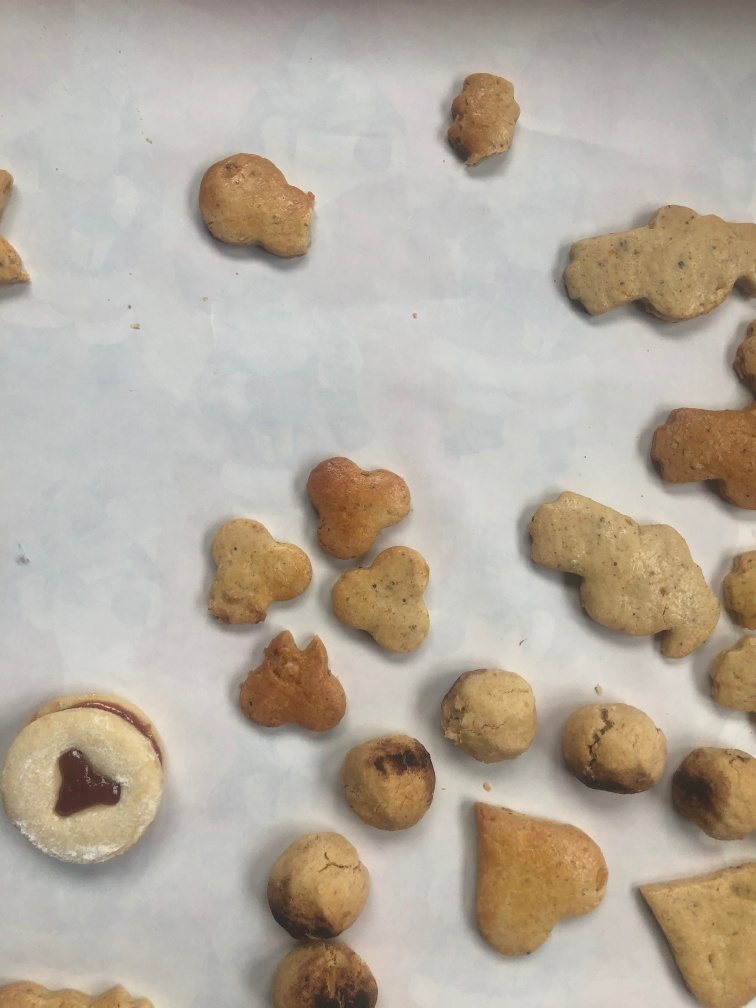christmas shortbread with jam: (4, 693, 171, 862)
flake: (193, 513, 314, 640), (299, 454, 413, 575), (232, 627, 348, 744), (325, 543, 435, 661)
heart: (463, 791, 609, 963), (628, 853, 756, 1008)
santa claus: (521, 485, 721, 662), (558, 201, 756, 329)
snowball: (263, 829, 380, 937), (552, 695, 669, 798), (437, 665, 542, 771), (339, 732, 437, 838), (670, 741, 756, 850), (264, 939, 382, 1008)
